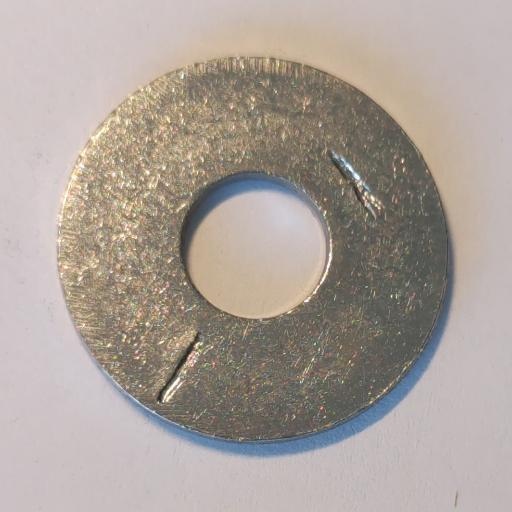scratch: (327, 149, 386, 220), (156, 332, 205, 406)
